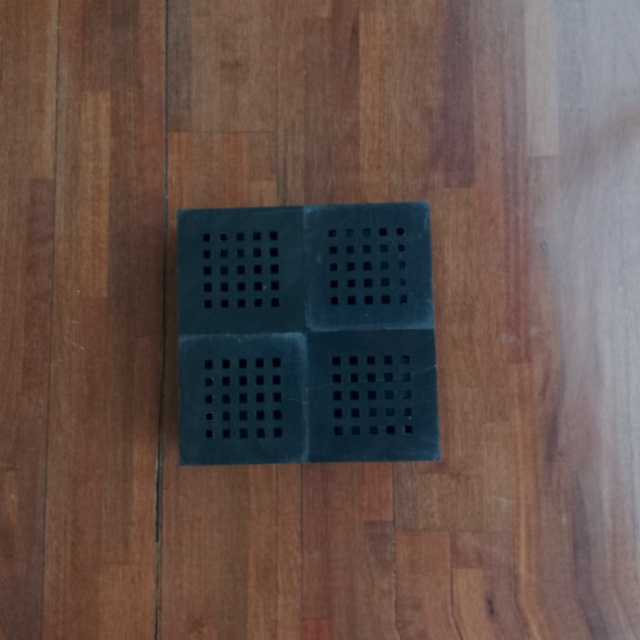pallet: (169, 199, 442, 472)
